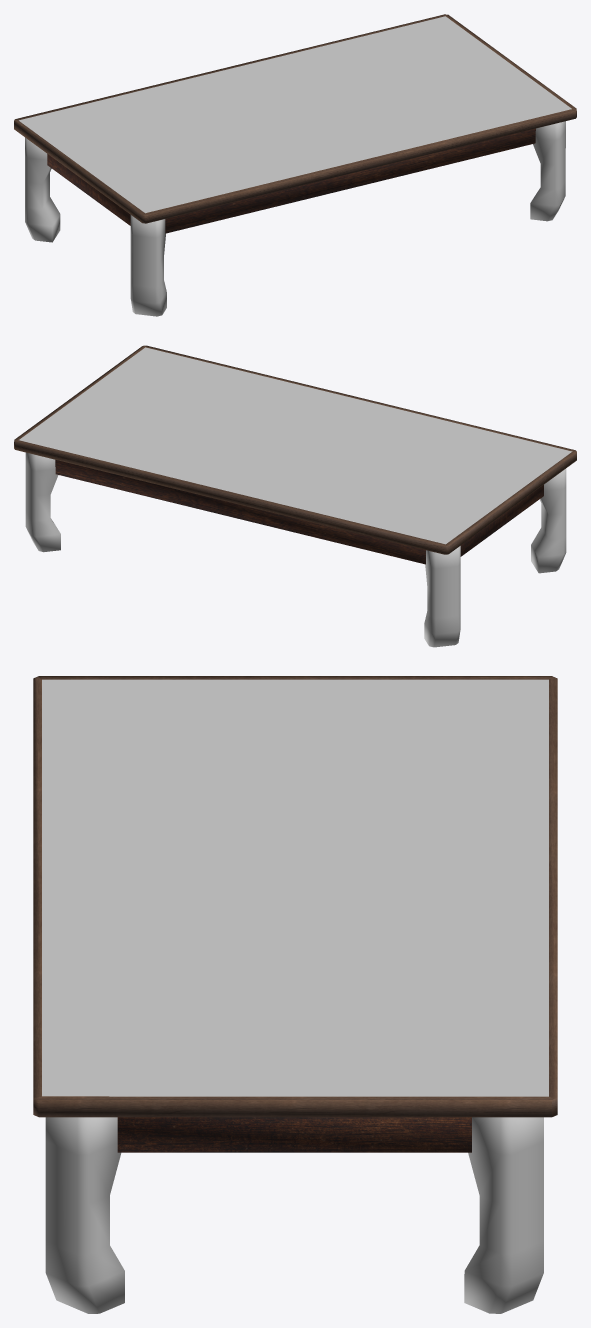
File: jov_table02b.fbx
3 renders of one model, top to bottom at view 1: azimuth 30°, elevation 25°; view 2: azimuth 150°, elevation 25°; view 3: azimuth 270°, elevation 25°, orthographic. The views are drawn at different scales.
Visible parts, largest first — view 1: jov_table02b; view 2: jov_table02b; view 3: jov_table02b.
Boxes of the visible parts, x1,y1,x2,y2 form: jov_table02b: [14, 14, 576, 316]; jov_table02b: [14, 345, 576, 647]; jov_table02b: [33, 676, 557, 1313].
Bounding box in the file's own units: 164 × 39.66 × 85.79.
